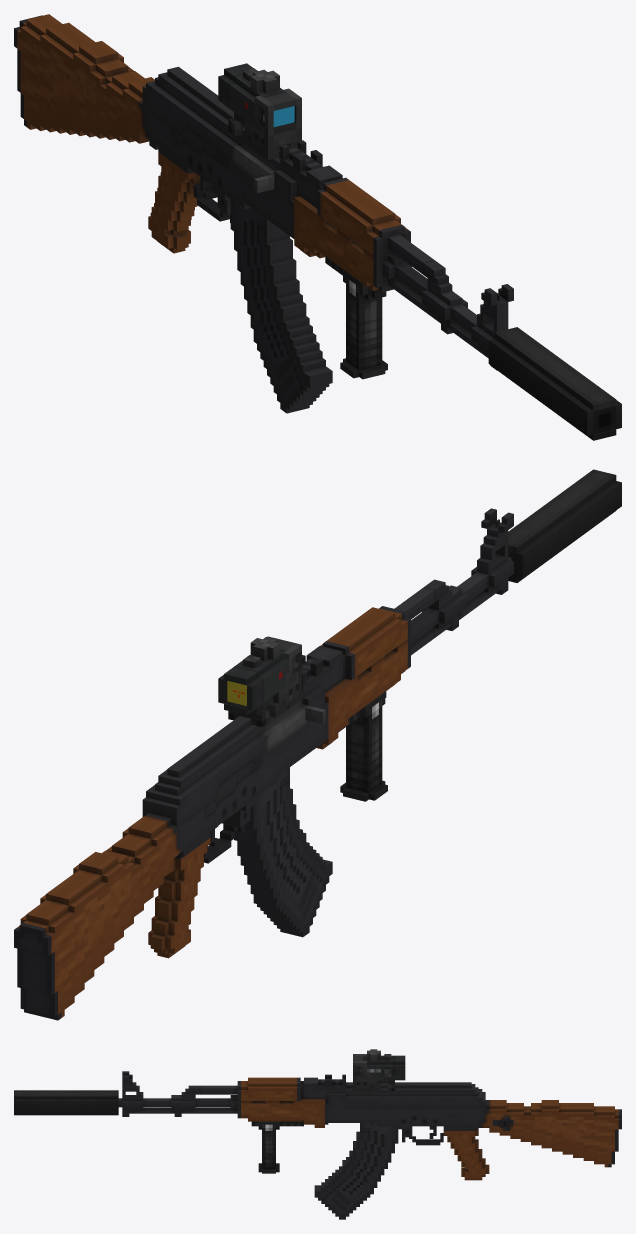
3 renders of one model, top to bottom at view 1: azimuth 30°, elevation 25°; view 2: azimuth 150°, elevation 25°; view 3: azimuth 270°, elevation 25°, orthographic. The views are drawn at different scales.
Parts seen in each view (by area): view 1: AK47, AK47_CLIP, SILENCER_6X6, GRIP1, SCOPE_TASCO, SCOPE_HOLOSUN, SCOPE_AIMPOINT; view 2: AK47, AK47_CLIP, SILENCER_6X6, SCOPE_TASCO, GRIP1, SCOPE_HOLOSUN; view 3: AK47, AK47_CLIP, SILENCER_6X6, SCOPE_TASCO, GRIP1, SCOPE_HOLOSUN.
Part boxes in pixels (x1=…): AK47: x1=14, y1=14, x2=513, y2=370; AK47_CLIP: x1=230, y1=199, x2=332, y2=413; SILENCER_6X6: x1=488, y1=327, x2=621, y2=440; GRIP1: x1=325, y1=257, x2=387, y2=379; SCOPE_TASCO: x1=218, y1=63, x2=301, y2=140; SCOPE_HOLOSUN: x1=241, y1=88, x2=301, y2=159; SCOPE_AIMPOINT: x1=261, y1=94, x2=296, y2=152; AK47: x1=14, y1=508, x2=513, y2=1020; AK47_CLIP: x1=234, y1=767, x2=332, y2=937; SILENCER_6X6: x1=508, y1=469, x2=621, y2=582; SCOPE_TASCO: x1=218, y1=637, x2=301, y2=727; GRIP1: x1=338, y1=691, x2=387, y2=801; SCOPE_HOLOSUN: x1=264, y1=636, x2=301, y2=717; AK47: x1=118, y1=1071, x2=621, y2=1180; AK47_CLIP: x1=314, y1=1123, x2=398, y2=1219; SILENCER_6X6: x1=14, y1=1090, x2=118, y2=1115; SCOPE_TASCO: x1=353, y1=1049, x2=405, y2=1091; GRIP1: x1=251, y1=1121, x2=303, y2=1173; SCOPE_HOLOSUN: x1=353, y1=1054, x2=380, y2=1091.
Bounding box in the file's own units: 0.0984 × 0.5118 × 1.71.
9 materials, 9 textured.
